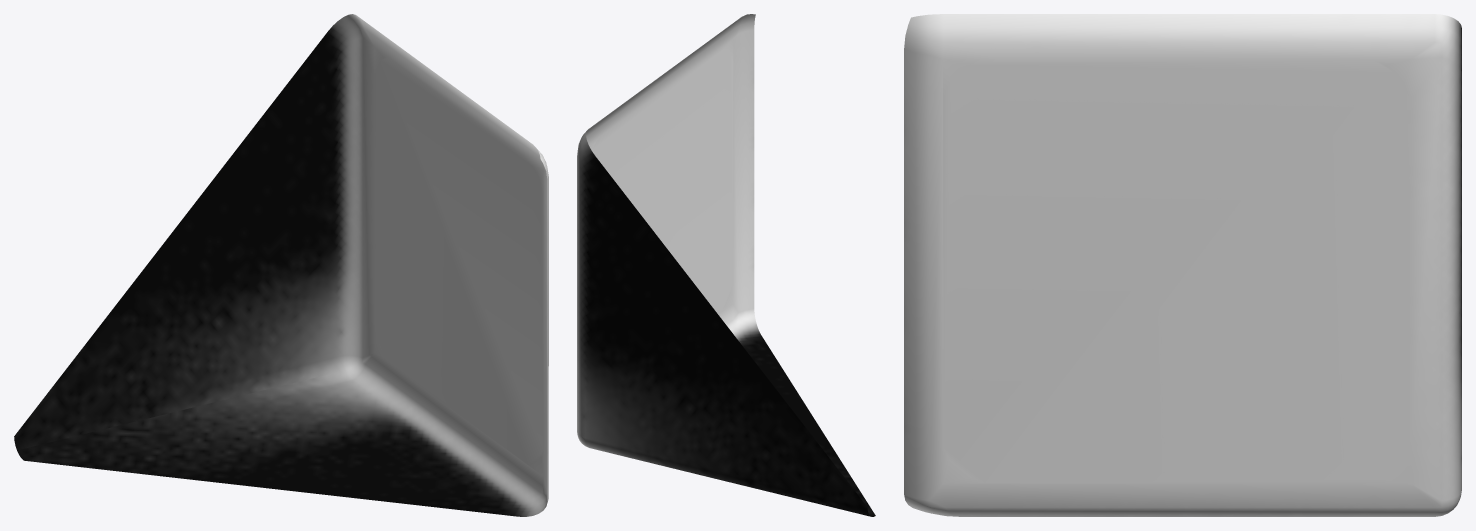
File: corner.glb
3 views of the same model, side by side, from view 1: azimuth 30°, elevation 25°; view 2: azimuth 150°, elevation 25°; view 3: azimuth 270°, elevation 25° (orthographic). The views are drawn at different scales.
Visible parts, largest first — view 1: Corner Cut.003; view 2: Corner Cut.003; view 3: Corner Cut.003.
Boxes of the visible parts, x1,y1,x2,y2 form: Corner Cut.003: (14, 14, 548, 516); Corner Cut.003: (577, 14, 875, 516); Corner Cut.003: (904, 14, 1461, 516).
Size of the model in its own units: 0.9528 by 0.9706 by 0.9714.
1 material, 1 textured.
